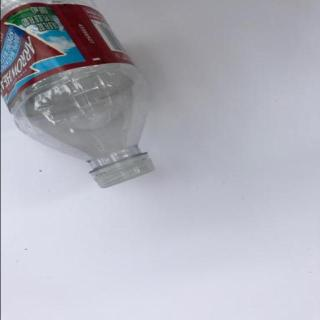Anorganik: (5, 0, 156, 190)
